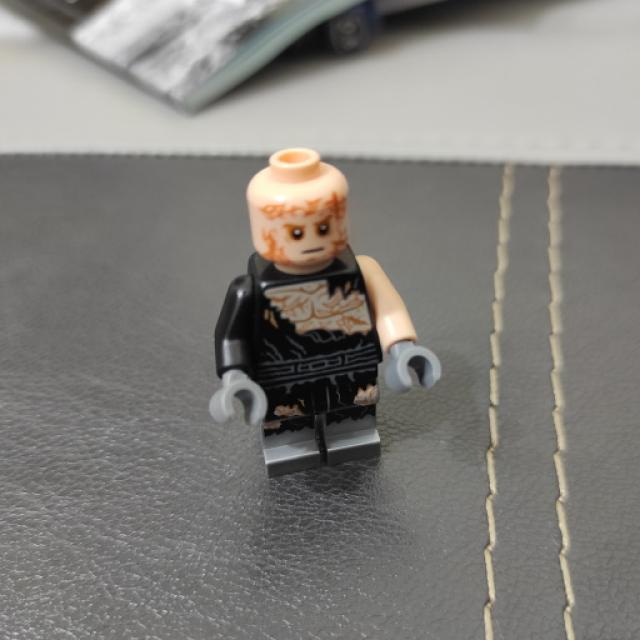Lego-Minifigures: (200, 128, 456, 503)
